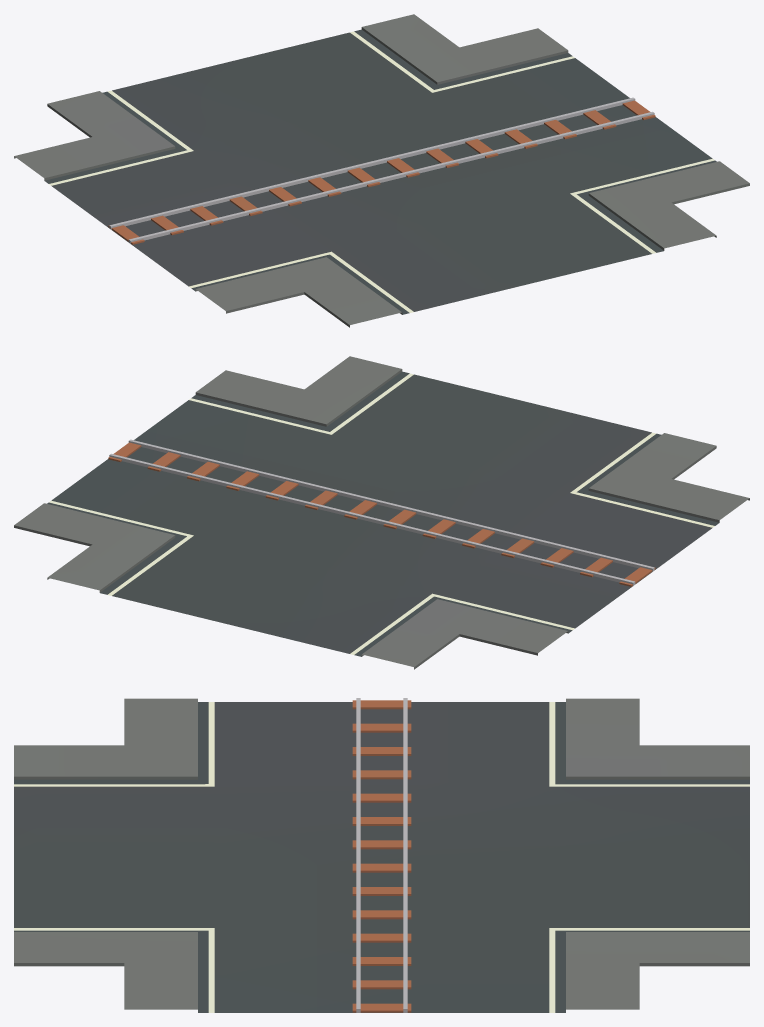
File: city_road_crossroads_2.glb
3 views of the same model, one above another, from view 1: azimuth 30°, elevation 25°; view 2: azimuth 150°, elevation 25°; view 3: azimuth 270°, elevation 25° (orthographic). The views are drawn at different scales.
Parts seen in each view (by area): view 1: Road_Crossroads_3; view 2: Road_Crossroads_3; view 3: Road_Crossroads_3.
Part boxes in pixels (x1=…): Road_Crossroads_3: x1=14, y1=14, x2=749, y2=327; Road_Crossroads_3: x1=14, y1=356, x2=749, y2=669; Road_Crossroads_3: x1=14, y1=698, x2=749, y2=1012.
Bounding box in the file's own units: 8.57 × 0.0481 × 8.57.
Materials: 1 (1 with a texture image).
